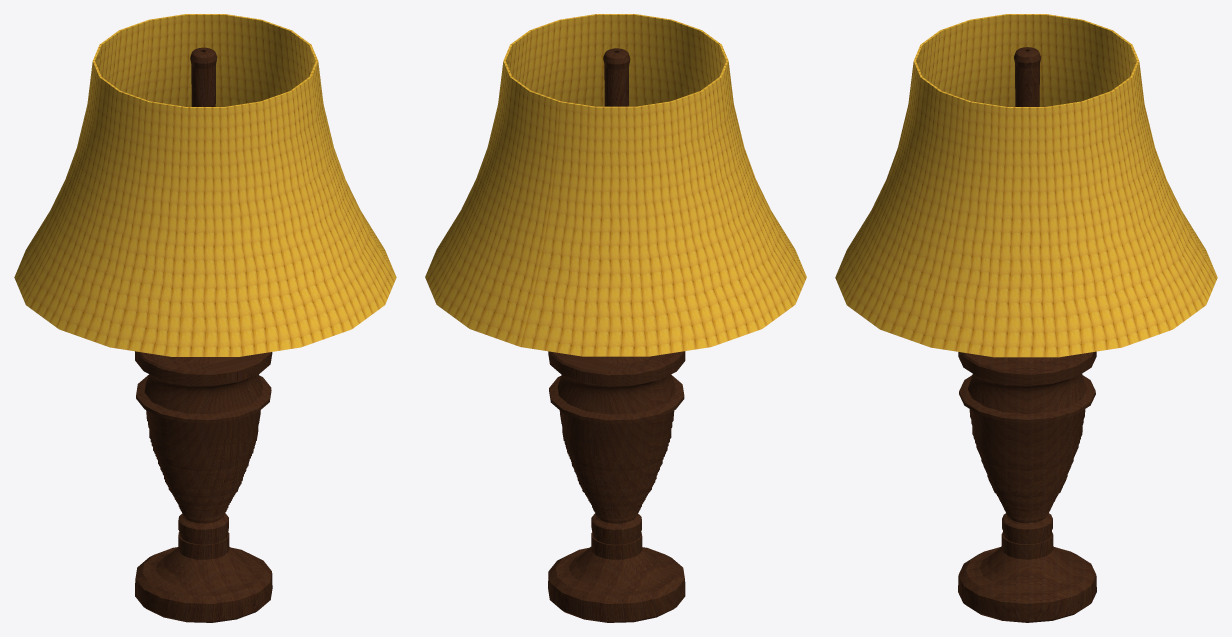
Rendered from nightlamp.glb.
3 views of the same model, side by side, from view 1: azimuth 30°, elevation 25°; view 2: azimuth 150°, elevation 25°; view 3: azimuth 270°, elevation 25° (orthographic).
Visible parts, largest first — view 1: Tube002, Line001; view 2: Tube002, Line001; view 3: Tube002, Line001.
Part boxes in pixels (box(x1,y1,x2,y2)): Tube002: box(14, 14, 396, 356); Line001: box(135, 47, 272, 622); Tube002: box(425, 14, 806, 356); Line001: box(548, 48, 685, 622); Tube002: box(835, 14, 1217, 357); Line001: box(958, 47, 1096, 622).
Bounding box in the file's own units: 28.89 × 46.47 × 29.33.
2 materials, 2 textured.
